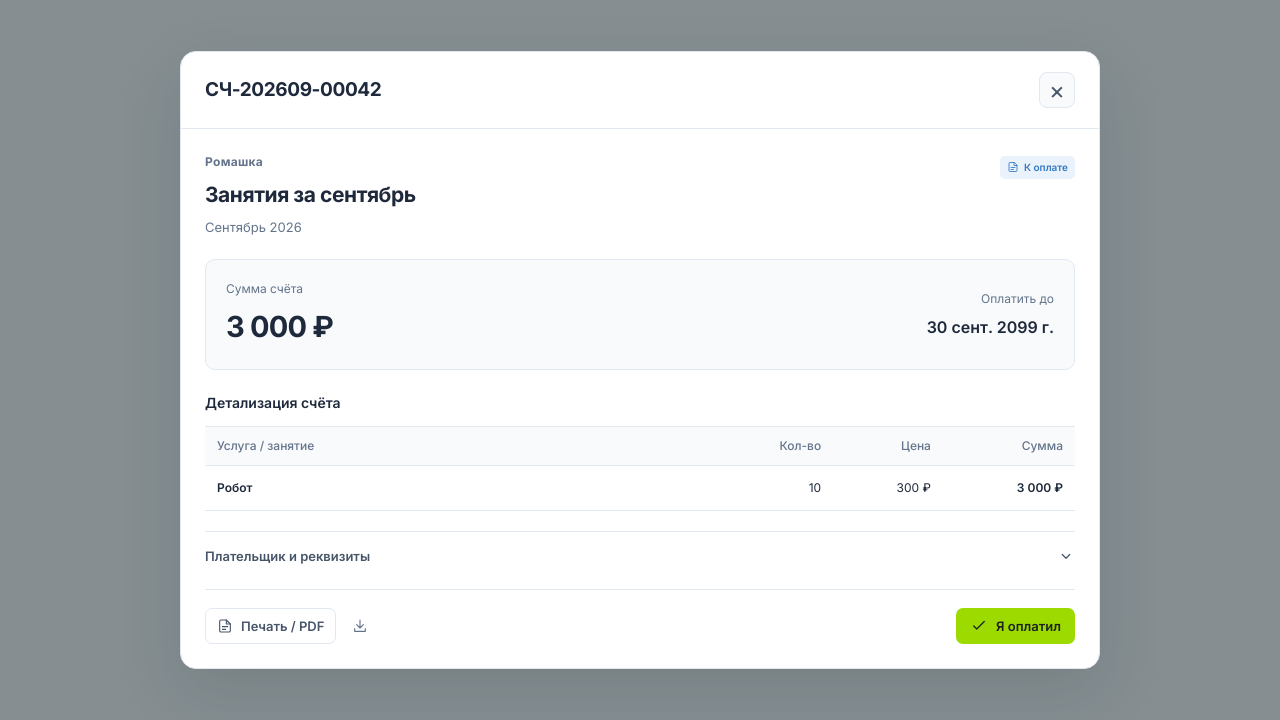
Test: a stale revision offers an explicit refresh and loads the server status before another attempt
The width and height of the screenshot is (1280, 720).
Expected: the heading "Занятия за сентябрь" is shown, [205,179,416,210]
Click the button "Я оплатил": (1016, 626) [956,608,1075,644]
(page scrolled)
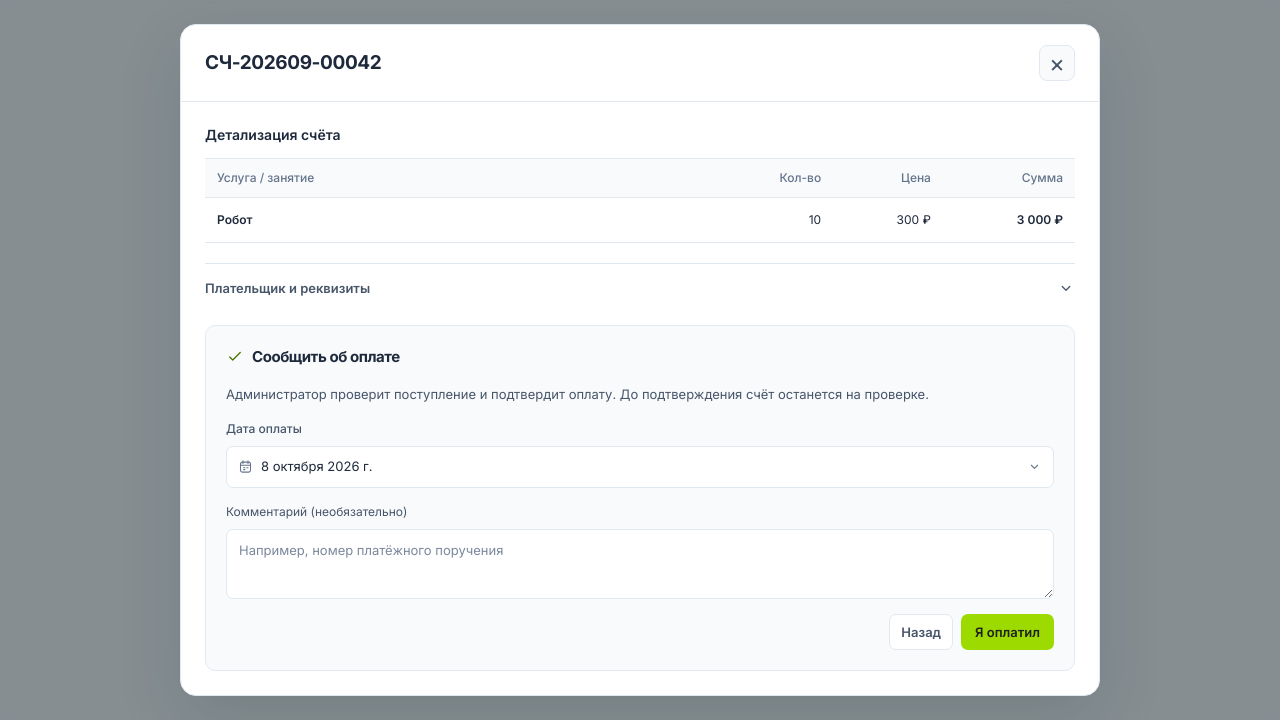
Click the button "Я оплатил": (1008, 632) [961,614,1054,650]
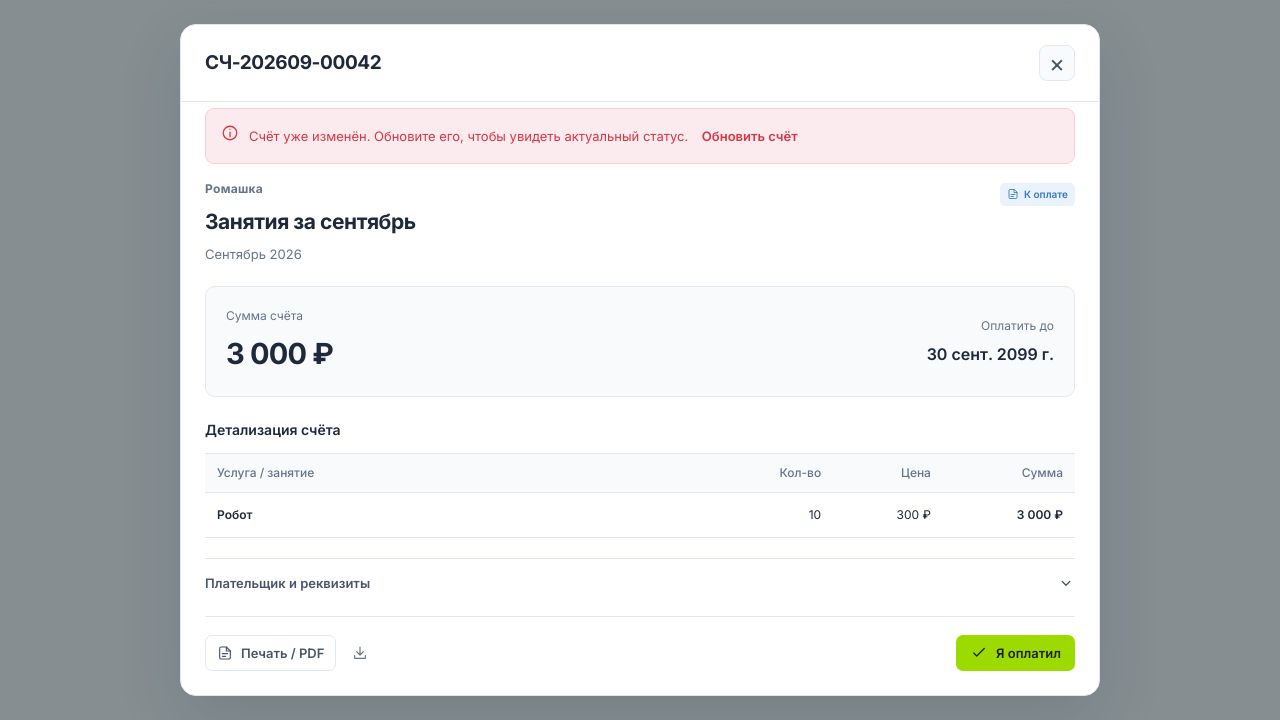
Now the message shows "Счёт уже изменён", box [249,128,688,144]
Now the label labelled "Комментарий (необязательно)" is gone
Click the button "Обновить счёт": (750, 136) [702,122,798,150]
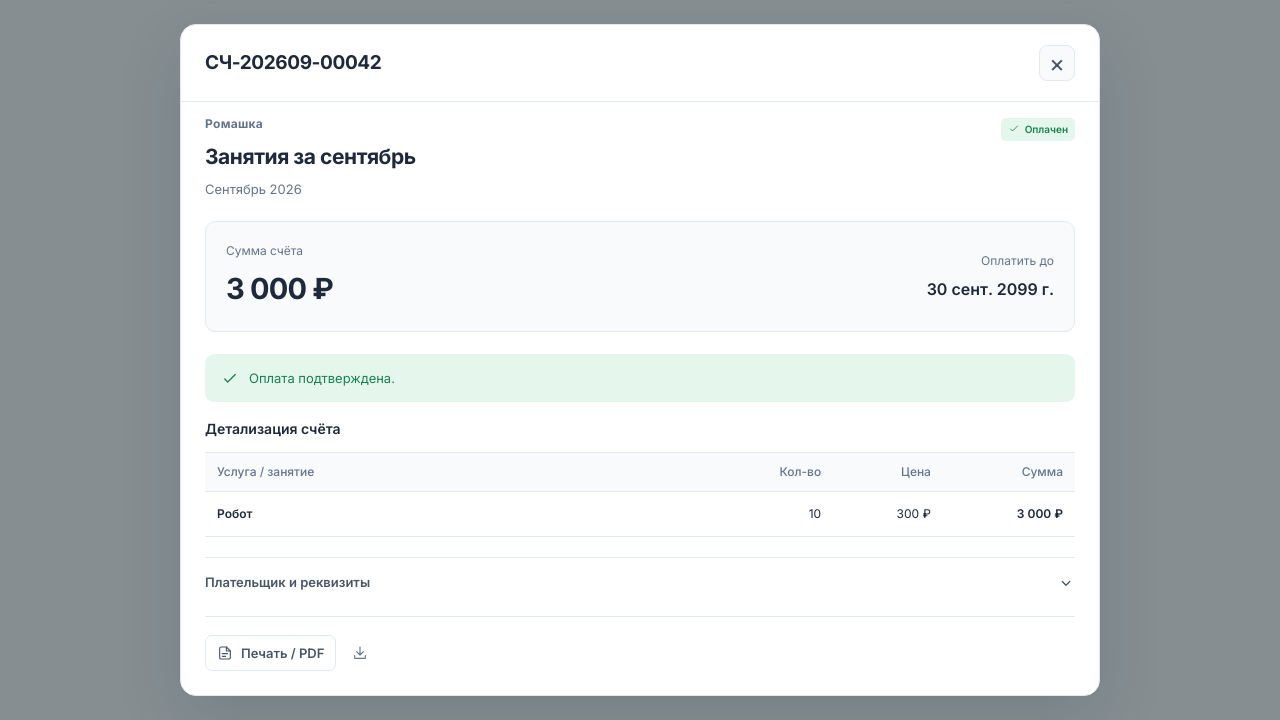
Now the text "Оплачен" is shown, box [1001,118,1075,140]
Now the button "Я оплатил" is gone
